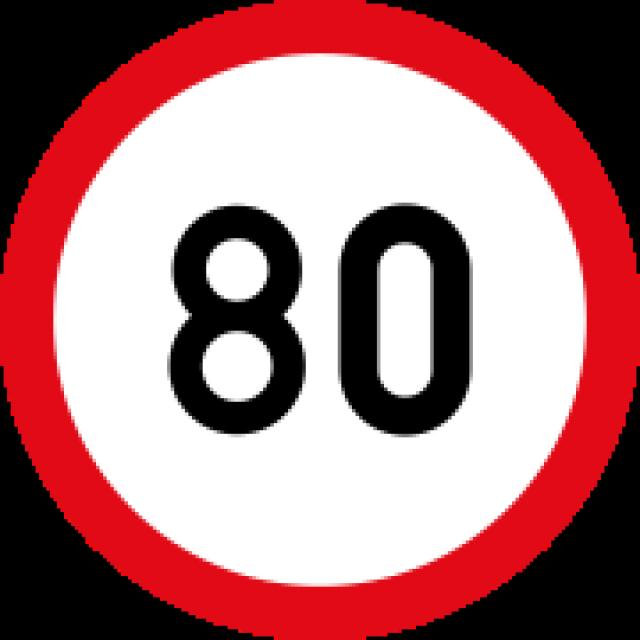Speed Limit -80-: (166, 201, 475, 441)
